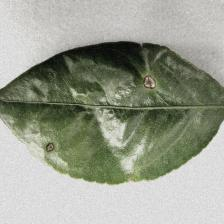canker: (28, 62, 160, 160)
